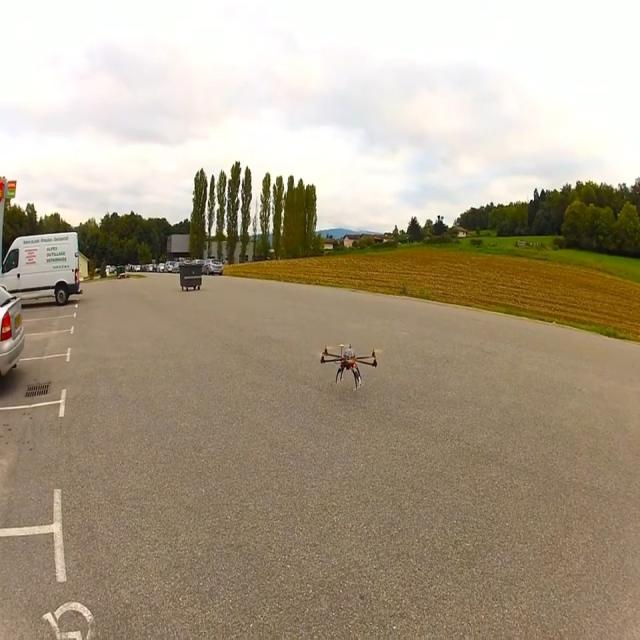drone: (320, 342, 378, 391)
